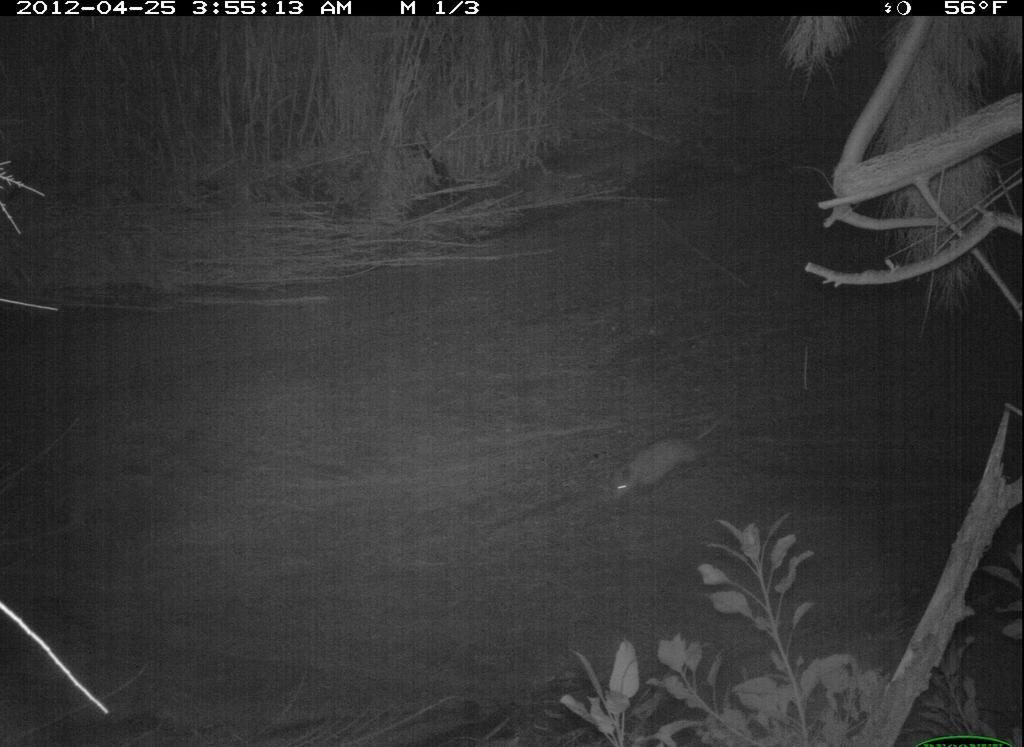opossum: (596, 393, 744, 513)
